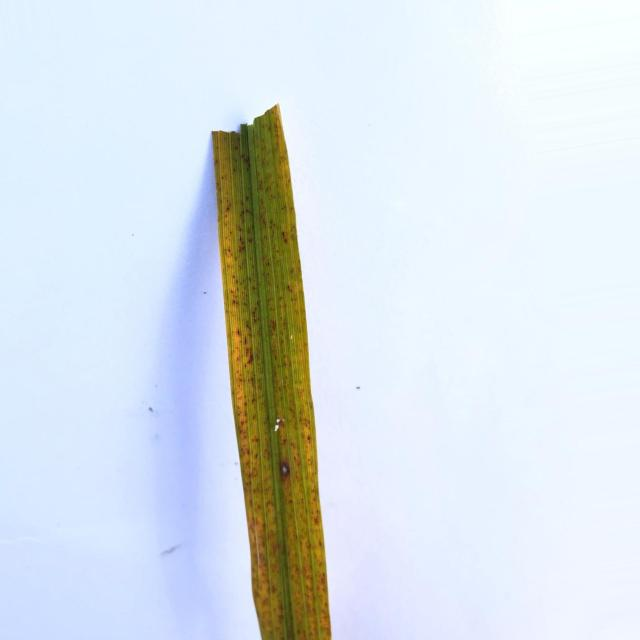Brown_Spot: (280, 461, 290, 478)
Leaf_Blast: (213, 105, 332, 640)
